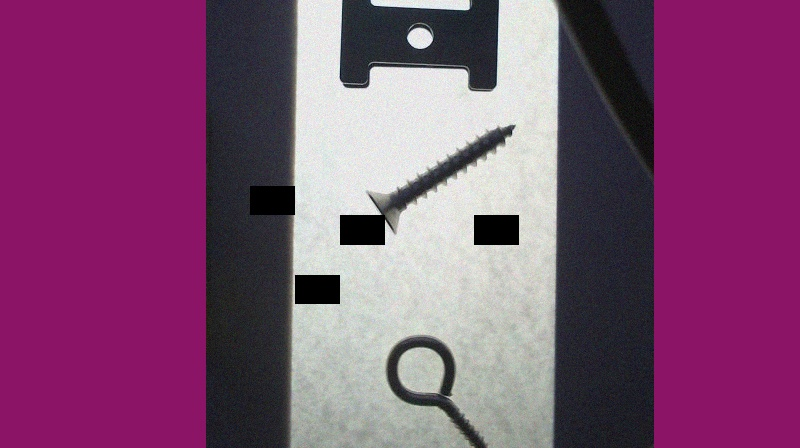O001: (384, 333, 494, 447)
O002: (338, 0, 498, 92)
S001: (361, 124, 515, 234)
